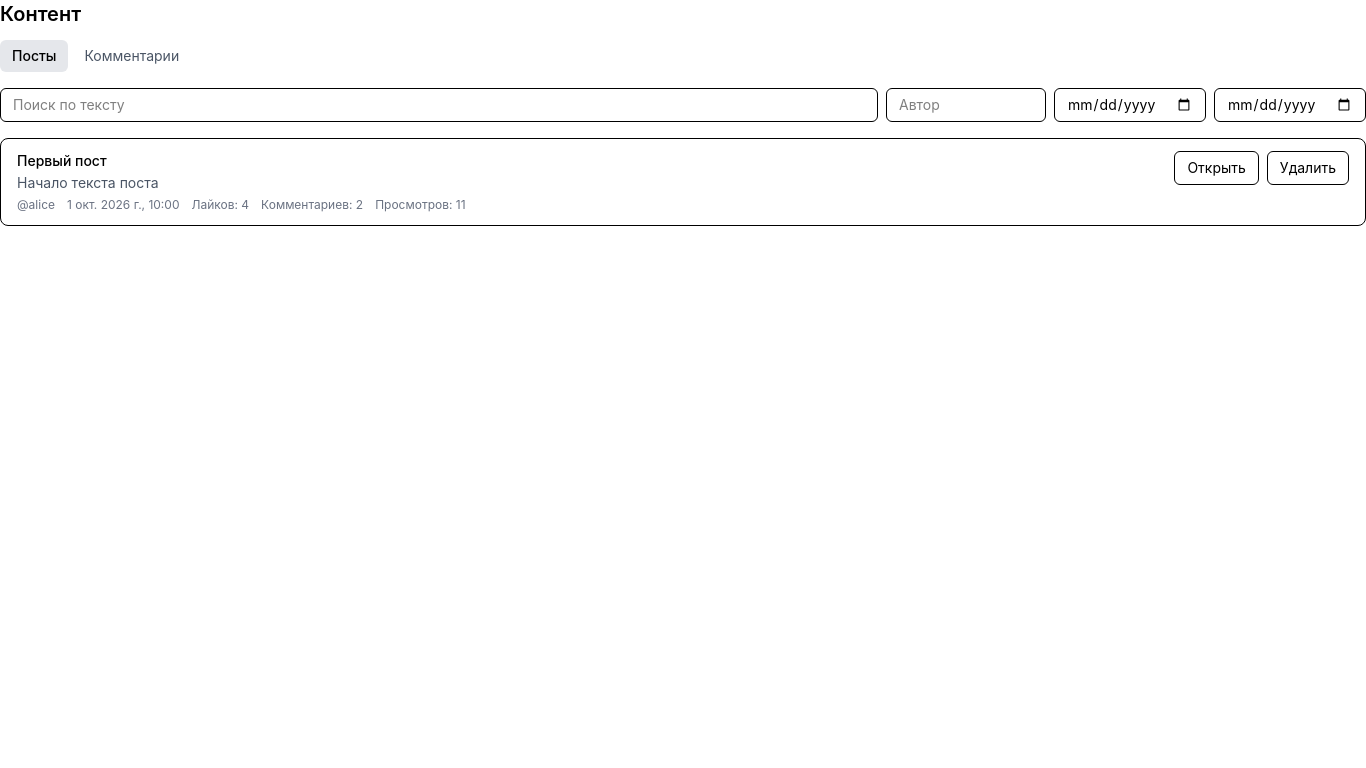
Test: AdminContentPage: посты › просмотр показывает полный текст
Click the button "Открыть": {"x": 1217, "y": 168} [1174,151,1259,185]
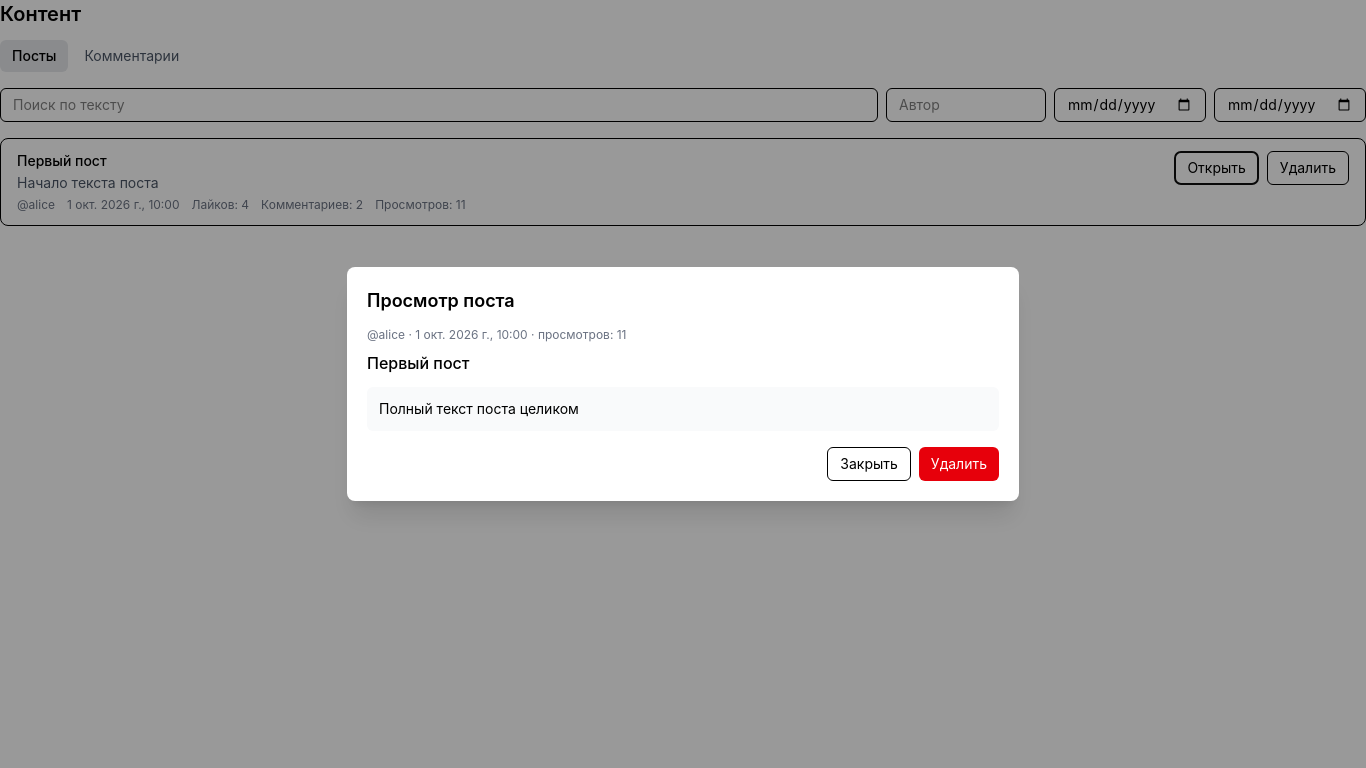
Now the text "Полный текст поста целиком" is shown, box [367,387,999,431]
